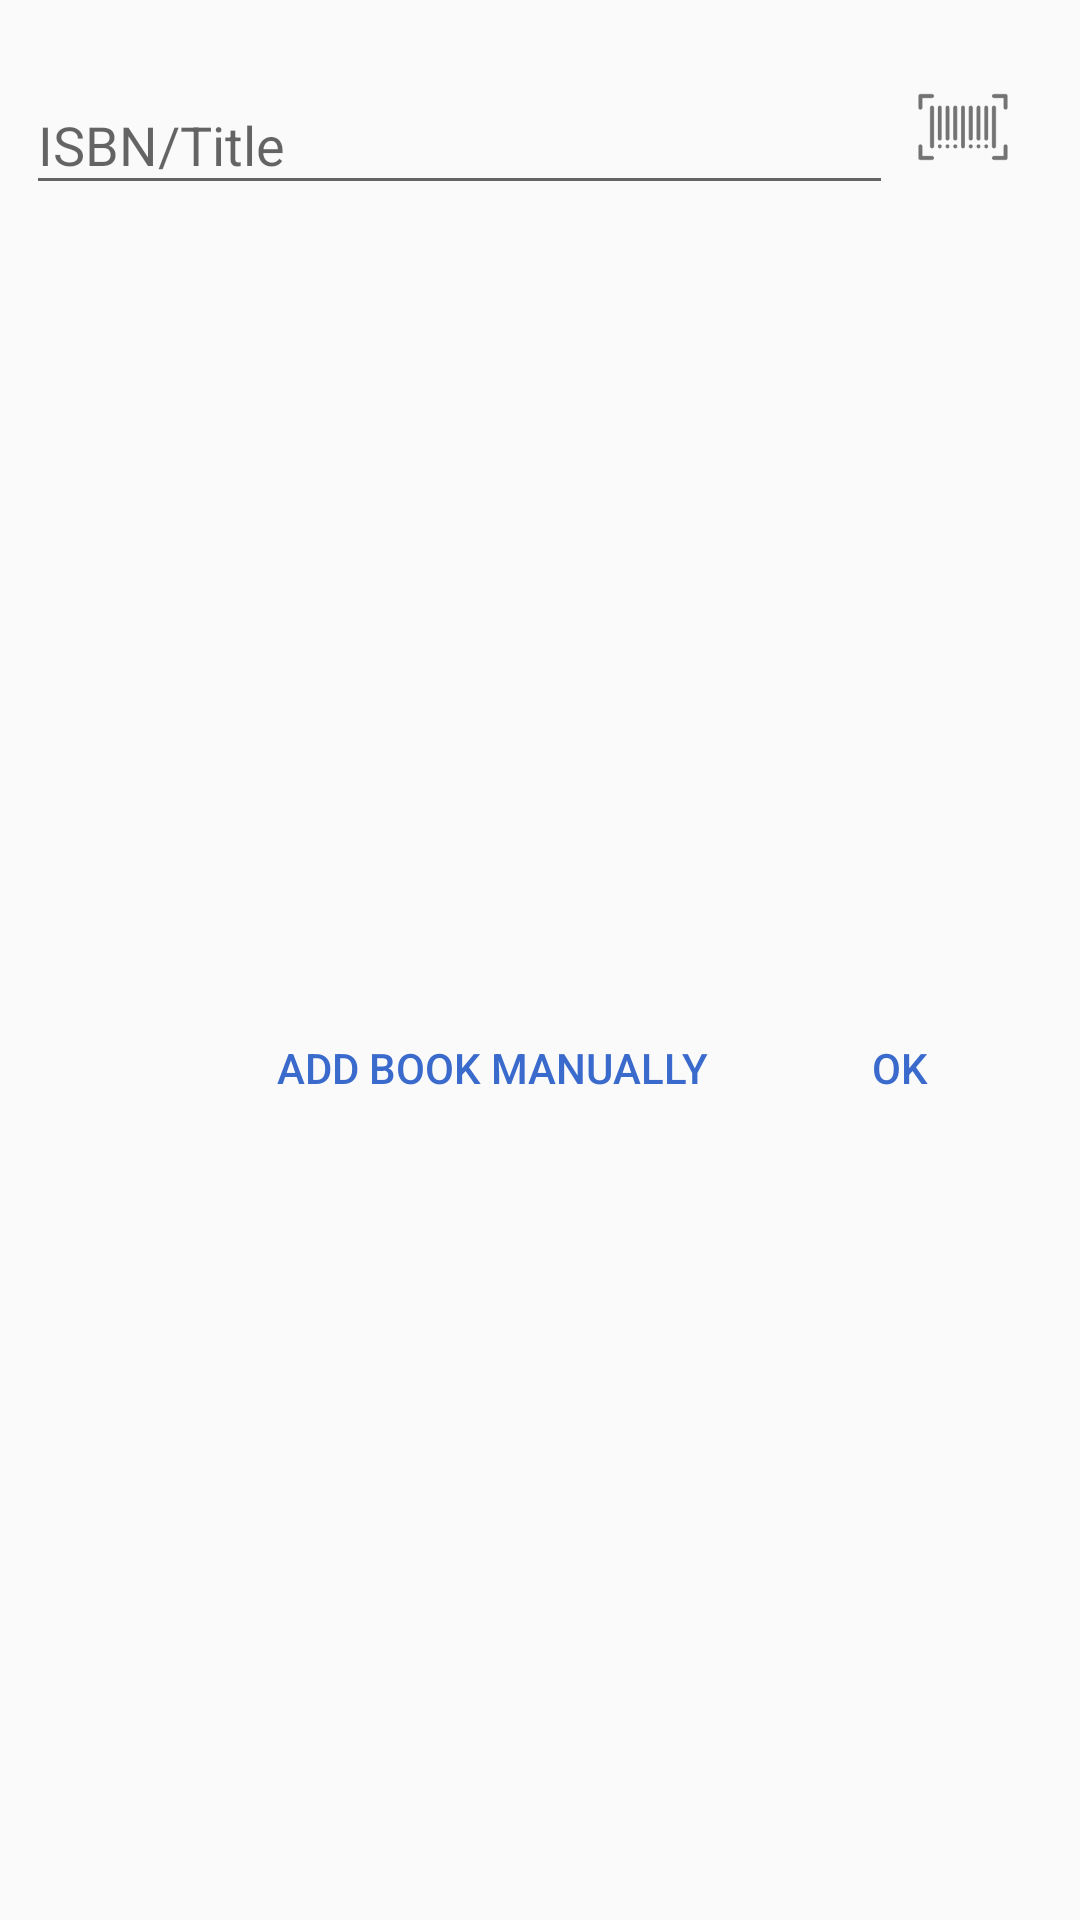

Screen size 1080px×1920px. Icon name, then its center in pixels as (x=x, y=y):
Scan ISBN: (x=963, y=127)
